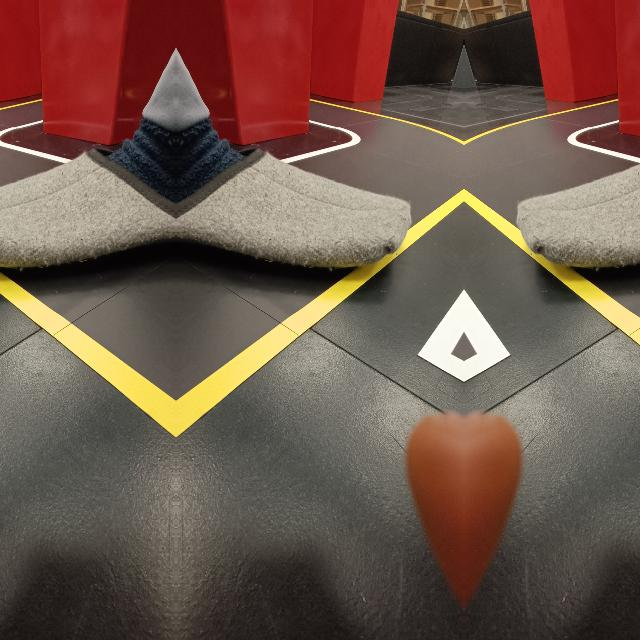obstacle: (175, 154, 412, 270), (0, 154, 174, 269), (515, 154, 640, 269)
